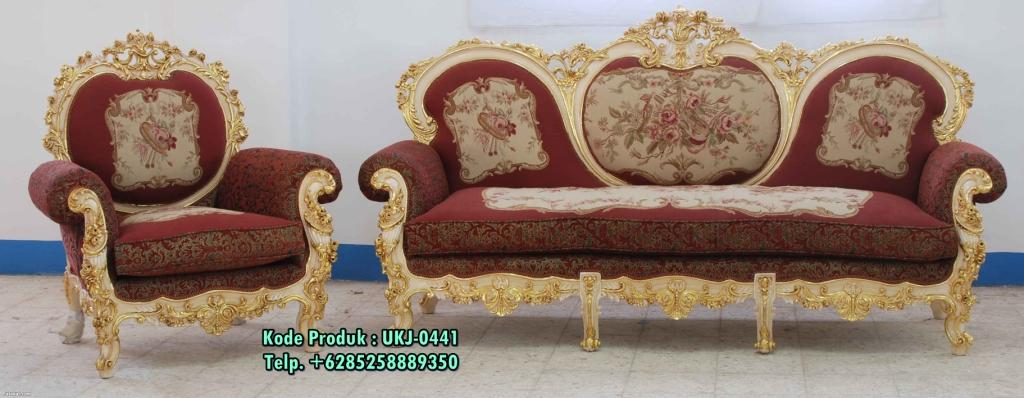Carving Chair: (372, 44, 1007, 362), (44, 44, 349, 373)
